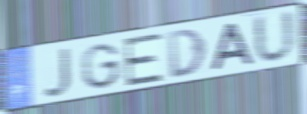A: (209, 21, 256, 73)
D: (166, 26, 209, 80)
E: (122, 30, 165, 88)
G: (79, 42, 122, 91)
J: (40, 46, 73, 100)
U: (251, 7, 298, 65)
